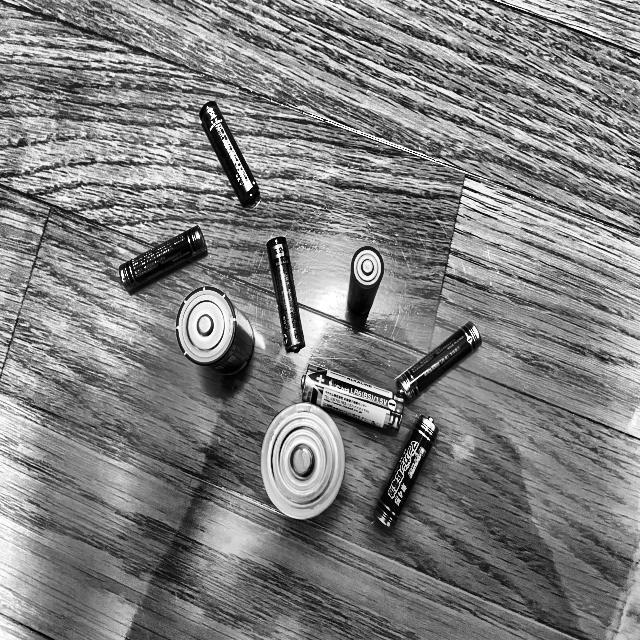drycell: (110, 220, 213, 297), (194, 98, 261, 208)
